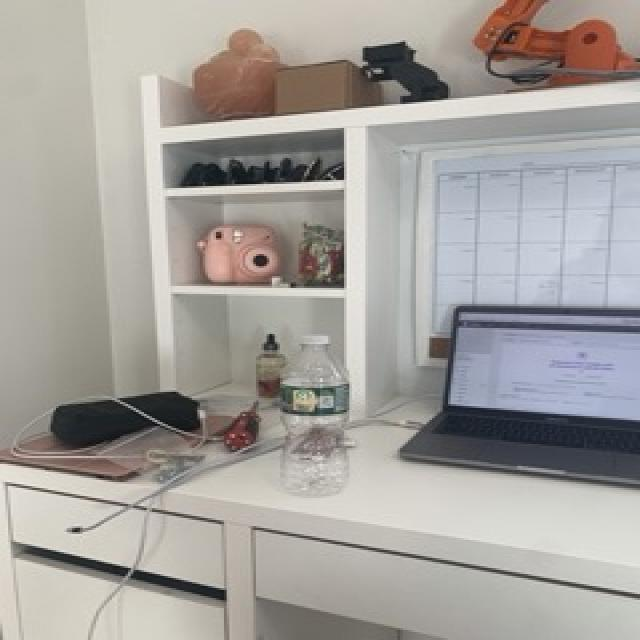water_bottle: (272, 334, 360, 501)
